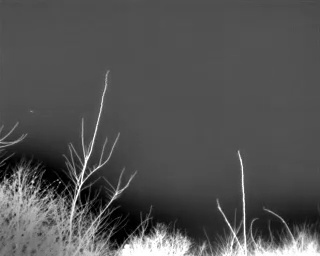BIRD: (28, 107, 35, 116)
